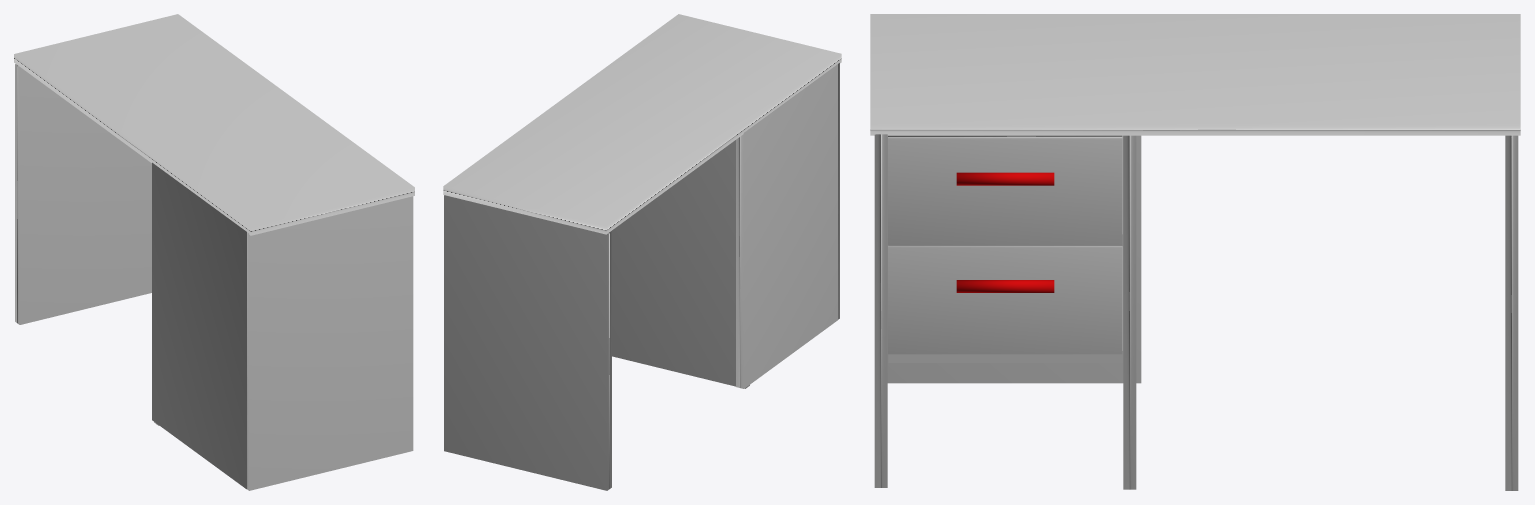
The model's file is nailDesk.fbx.
3 views of the same model, side by side, from view 1: azimuth 30°, elevation 25°; view 2: azimuth 150°, elevation 25°; view 3: azimuth 270°, elevation 25° (orthographic). The views are drawn at different scales.
Visible parts, largest first — view 1: Cube, Cube.003, Cube.002, Cube.004; view 2: Cube.002, Cube.003, Cube.004, Cube.001, Cube; view 3: Cube.003, Cube.007, Cube.008, Cube.004, Cube.002, Cube.001, Cube, Cube.005, Cylinder, Cylinder.001.
Boxes of the visible parts, box(x1,y1,x2,y2) form: Cube: box(247, 196, 413, 490); Cube.003: box(14, 14, 414, 235); Cube.002: box(15, 64, 151, 324); Cube.004: box(152, 162, 246, 489); Cube.002: box(444, 195, 611, 490); Cube.003: box(443, 14, 841, 234); Cube.004: box(736, 64, 837, 388); Cube.001: box(611, 140, 749, 388); Cube: box(838, 63, 839, 319); Cube.003: box(870, 14, 1520, 135); Cube.007: box(888, 135, 1122, 245); Cube.008: box(888, 246, 1122, 354); Cube.004: box(887, 135, 1141, 383); Cube.002: box(1505, 135, 1518, 490); Cube.001: box(1123, 135, 1136, 489); Cube: box(874, 134, 887, 487); Cube.005: box(888, 246, 1122, 362); Cylinder: box(956, 172, 1054, 185); Cylinder.001: box(956, 280, 1054, 292).
Bounding box in the file's own units: 212 × 311 × 500.
